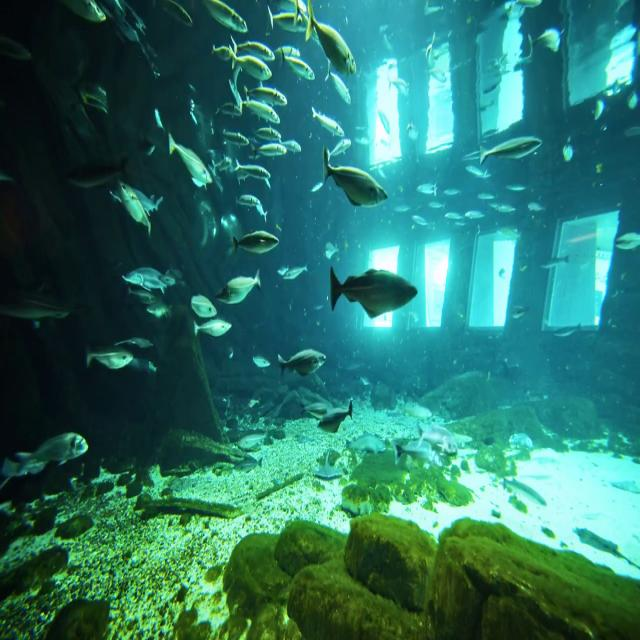fish: (327, 259, 423, 329), (319, 157, 402, 223), (304, 8, 357, 86), (163, 126, 211, 209), (220, 215, 280, 263), (275, 344, 325, 383), (76, 341, 130, 373), (184, 315, 233, 349)
